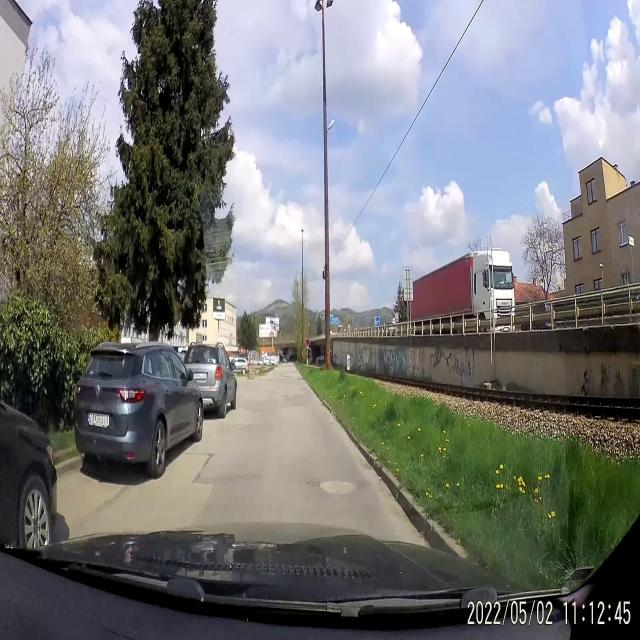Manhole: (315, 467, 359, 503)
